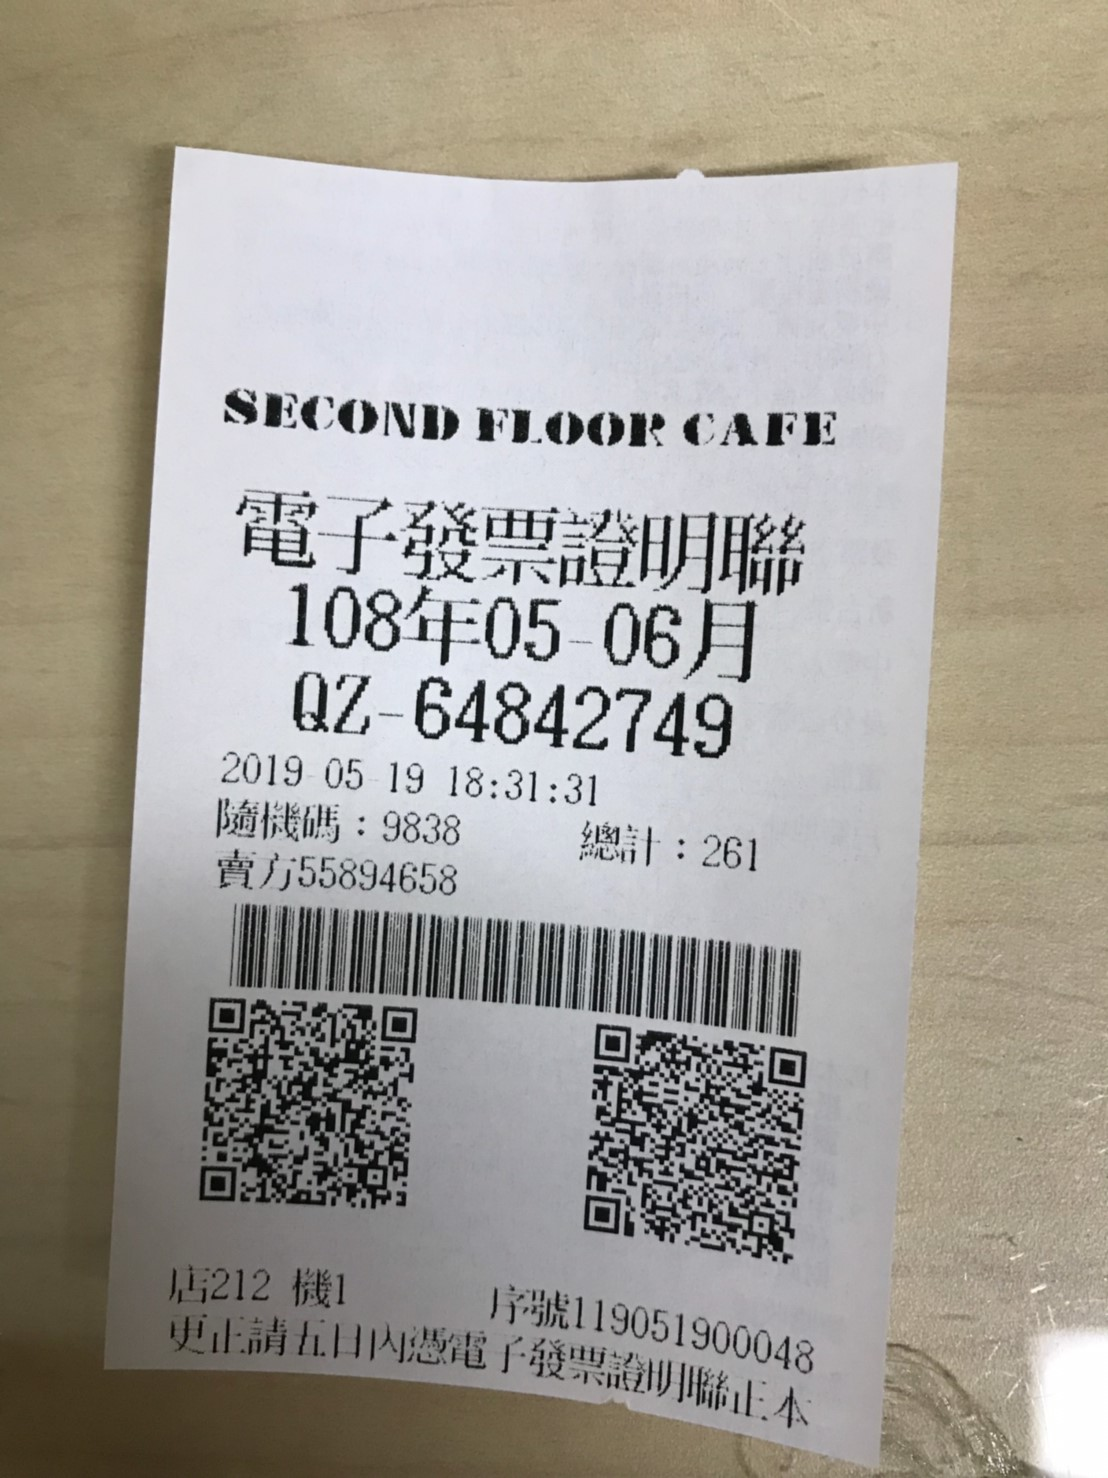Date_New: (283, 574, 766, 684)
Number_New: (411, 673, 737, 760)
